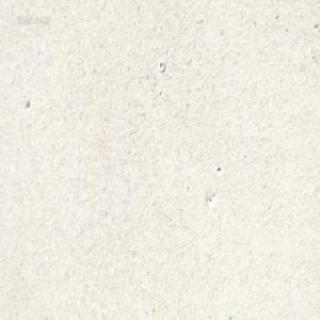Washertrack_idkeyframe: (158, 60, 165, 72)
